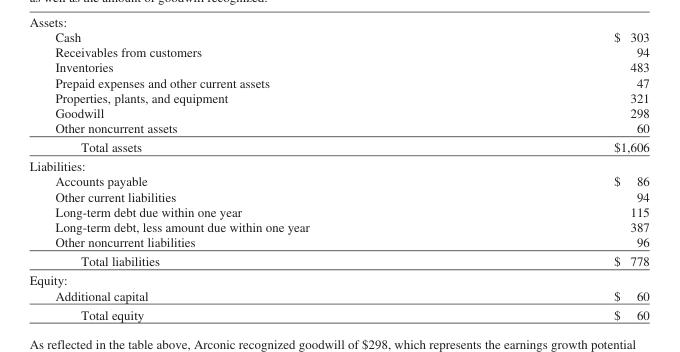table: (28, 29, 648, 321)
table column: (28, 29, 461, 321), (461, 29, 648, 321)
table projected row header: (28, 156, 648, 173), (28, 270, 648, 287)
table row: (28, 137, 648, 156), (28, 251, 648, 270), (28, 120, 648, 137), (28, 156, 648, 173), (28, 234, 648, 251), (28, 270, 648, 287), (28, 287, 648, 304), (28, 304, 648, 321), (28, 89, 648, 105), (28, 203, 648, 219), (28, 29, 648, 44), (28, 44, 648, 59), (28, 59, 648, 74), (28, 74, 648, 89), (28, 105, 648, 120), (28, 173, 648, 188), (28, 188, 648, 203), (28, 219, 648, 234)
